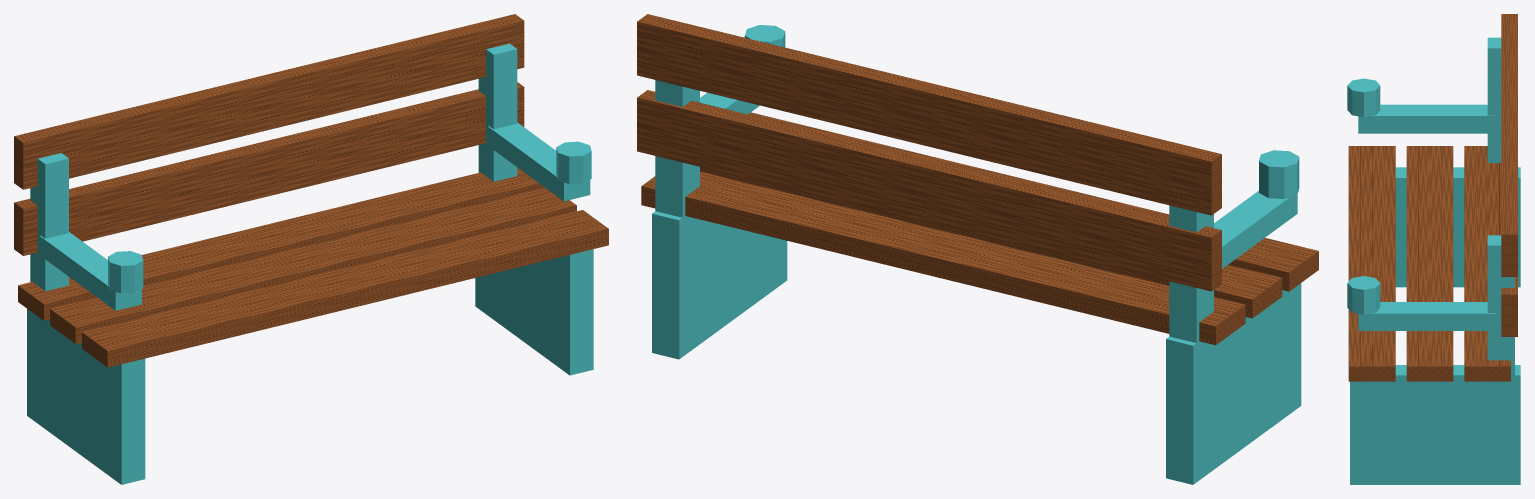
File: theme-park-rides-and-coasters-theme-park-rides-and-coa-5d705da5__28709.glb
3 renders of one model, left to right at view 1: azimuth 30°, elevation 25°; view 2: azimuth 150°, elevation 25°; view 3: azimuth 270°, elevation 25°, orthographic. The views are drawn at different scales.
Visible parts, largest first — view 1: theme-park-rides-and-coasters-park-bench; view 2: theme-park-rides-and-coasters-park-bench; view 3: theme-park-rides-and-coasters-park-bench.
Part boxes in pixels (<box>): theme-park-rides-and-coasters-park-bench: <box>14,14,608,484</box>; theme-park-rides-and-coasters-park-bench: <box>637,14,1318,484</box>; theme-park-rides-and-coasters-park-bench: <box>1347,14,1520,484</box>.
Bounding box in the file's own units: 1.9 × 1.03 × 0.6299.
Materials: 2 (1 with a texture image).
